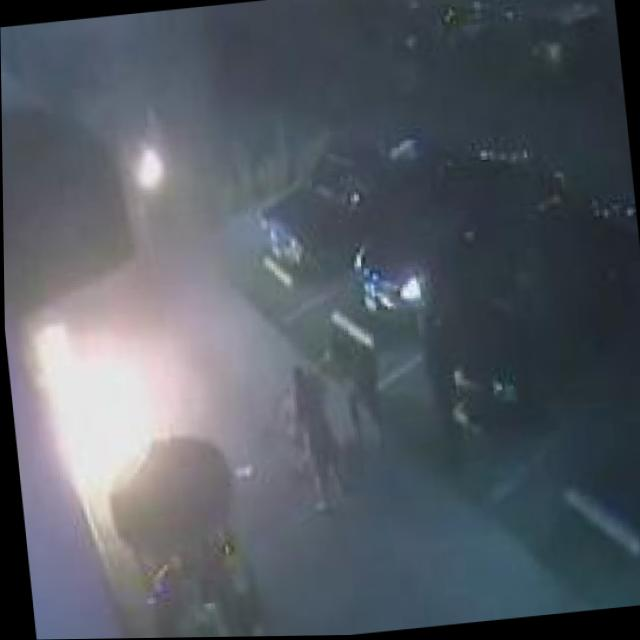fire: (19, 302, 195, 531), (120, 140, 170, 193)
